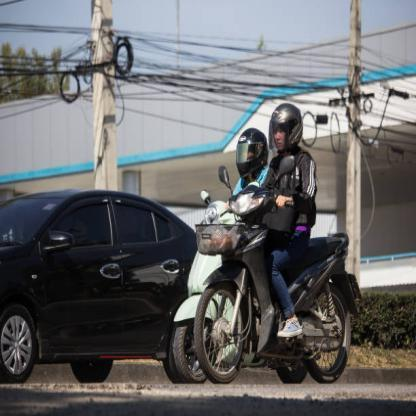Motorcycle: (197, 172, 358, 382)
